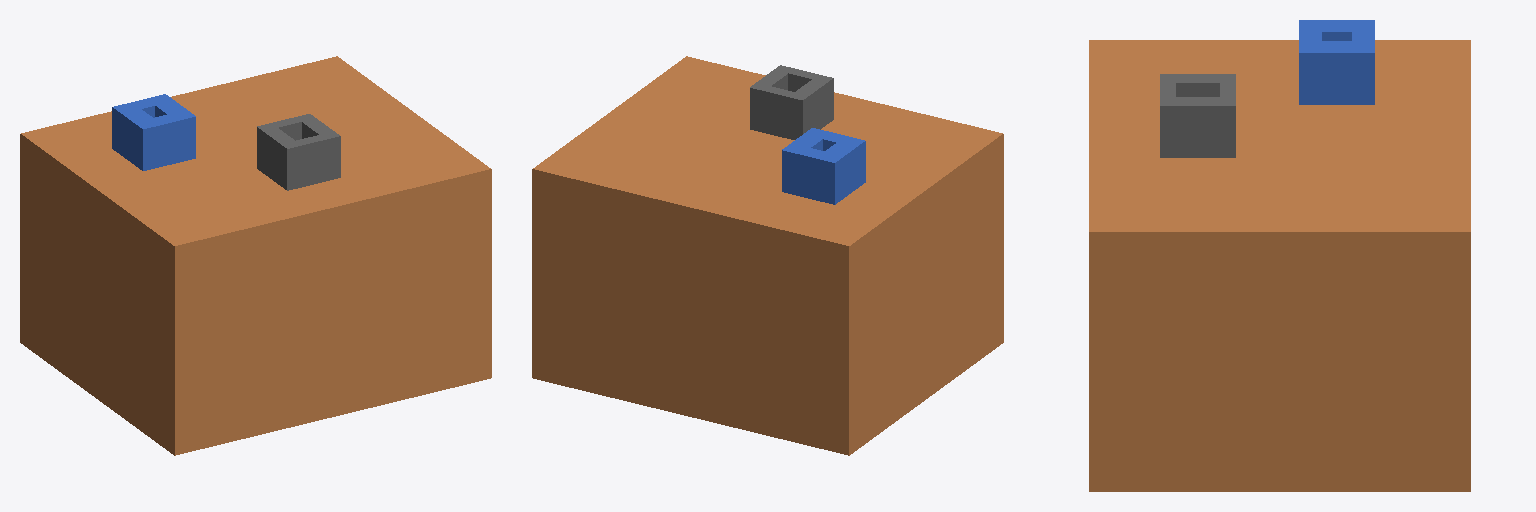
robot.urdf — peg_in_hole_fixtured_scene_0038_peg0006_tol02:
<?xml version="1.0"?>
<robot name="peg_in_hole_fixtured_scene_0038_peg0006_tol02">
  <material name="wood"><color rgba="0.82 0.56 0.35 1.0"/></material>
  <material name="start_fix"><color rgba="0.30 0.50 0.85 1.0"/></material>
  <material name="goal_fix"><color rgba="0.4706 0.4706 0.4706 1.0"/></material>
  <link name="box">
    <visual>
      <origin xyz="0.000000 0.000000 0.000000" rpy="0 0 0"/>
      <geometry><box size="0.475000 0.400000 0.300000"/></geometry>
      <material name="wood"/>
    </visual>
    <collision>
      <origin xyz="0.000000 0.000000 0.000000" rpy="0 0 0"/>
      <geometry><box size="0.475000 0.400000 0.300000"/></geometry>
    </collision>
    <visual>
      <origin xyz="-0.117892 0.059587 0.155000" rpy="0 0 0"/>
      <geometry><box size="0.080000 0.080000 0.010000"/></geometry>
      <material name="start_fix"/>
    </visual>
    <collision>
      <origin xyz="-0.117892 0.059587 0.155000" rpy="0 0 0"/>
      <geometry><box size="0.080000 0.080000 0.010000"/></geometry>
    </collision>
    <visual>
      <origin xyz="-0.092642 0.059587 0.185000" rpy="0 0 0"/>
      <geometry><box size="0.029500 0.080000 0.050000"/></geometry>
      <material name="start_fix"/>
    </visual>
    <collision>
      <origin xyz="-0.092642 0.059587 0.185000" rpy="0 0 0"/>
      <geometry><box size="0.029500 0.080000 0.050000"/></geometry>
    </collision>
    <visual>
      <origin xyz="-0.143142 0.059587 0.185000" rpy="0 0 0"/>
      <geometry><box size="0.029500 0.080000 0.050000"/></geometry>
      <material name="start_fix"/>
    </visual>
    <collision>
      <origin xyz="-0.143142 0.059587 0.185000" rpy="0 0 0"/>
      <geometry><box size="0.029500 0.080000 0.050000"/></geometry>
    </collision>
    <visual>
      <origin xyz="-0.117892 0.087337 0.185000" rpy="0 0 0"/>
      <geometry><box size="0.021000 0.024500 0.050000"/></geometry>
      <material name="start_fix"/>
    </visual>
    <collision>
      <origin xyz="-0.117892 0.087337 0.185000" rpy="0 0 0"/>
      <geometry><box size="0.021000 0.024500 0.050000"/></geometry>
    </collision>
    <visual>
      <origin xyz="-0.117892 0.031837 0.185000" rpy="0 0 0"/>
      <geometry><box size="0.021000 0.024500 0.050000"/></geometry>
      <material name="start_fix"/>
    </visual>
    <collision>
      <origin xyz="-0.117892 0.031837 0.185000" rpy="0 0 0"/>
      <geometry><box size="0.021000 0.024500 0.050000"/></geometry>
    </collision>
    <visual>
      <origin xyz="0.014243 -0.085989 0.155000" rpy="0 0 0"/>
      <geometry><box size="0.080000 0.080000 0.010000"/></geometry>
      <material name="goal_fix"/>
    </visual>
    <collision>
      <origin xyz="0.014243 -0.085989 0.155000" rpy="0 0 0"/>
      <geometry><box size="0.080000 0.080000 0.010000"/></geometry>
    </collision>
    <visual>
      <origin xyz="0.043196 -0.085989 0.185000" rpy="0 0 0"/>
      <geometry><box size="0.022095 0.080000 0.050000"/></geometry>
      <material name="goal_fix"/>
    </visual>
    <collision>
      <origin xyz="0.043196 -0.085989 0.185000" rpy="0 0 0"/>
      <geometry><box size="0.022095 0.080000 0.050000"/></geometry>
    </collision>
    <visual>
      <origin xyz="-0.014709 -0.085989 0.185000" rpy="0 0 0"/>
      <geometry><box size="0.022095 0.080000 0.050000"/></geometry>
      <material name="goal_fix"/>
    </visual>
    <collision>
      <origin xyz="-0.014709 -0.085989 0.185000" rpy="0 0 0"/>
      <geometry><box size="0.022095 0.080000 0.050000"/></geometry>
    </collision>
    <visual>
      <origin xyz="0.014243 -0.054536 0.185000" rpy="0 0 0"/>
      <geometry><box size="0.035809 0.017095 0.050000"/></geometry>
      <material name="goal_fix"/>
    </visual>
    <collision>
      <origin xyz="0.014243 -0.054536 0.185000" rpy="0 0 0"/>
      <geometry><box size="0.035809 0.017095 0.050000"/></geometry>
    </collision>
    <visual>
      <origin xyz="0.014243 -0.117441 0.185000" rpy="0 0 0"/>
      <geometry><box size="0.035809 0.017095 0.050000"/></geometry>
      <material name="goal_fix"/>
    </visual>
    <collision>
      <origin xyz="0.014243 -0.117441 0.185000" rpy="0 0 0"/>
      <geometry><box size="0.035809 0.017095 0.050000"/></geometry>
    </collision>
    <inertial>
      <mass value="500"/>
      <friction value="1.0"/>
      <inertia ixx="1000.0" ixy="0.0" ixz="0.0" iyy="1000.0" iyz="0.0" izz="1000.0"/>
    </inertial>
  </link>
</robot>

--- What the picture shows (computed from the rendered views, not written in the file) ---
3 views of the same robot in one strip: view 1: azimuth 30°, elevation 25°; view 2: azimuth 150°, elevation 25°; view 3: azimuth 270°, elevation 25° (orthographic).
Robot: peg_in_hole_fixtured_scene_0038_peg0006_tol02 — 1 links, 0 joints (none); root link box; default pose: every joint at zero.
Visible links, largest first — view 1: box; view 2: box; view 3: box.
Boxes of the visible links, x1,y1,x2,y2 form: box: (20,56,491,455); box: (532,56,1003,455); box: (1089,20,1470,491).
Size in the robot's own frame: 0.475 by 0.4 by 0.36 metres.
Geometry: primitives only (box / cylinder / sphere), no mesh files.
